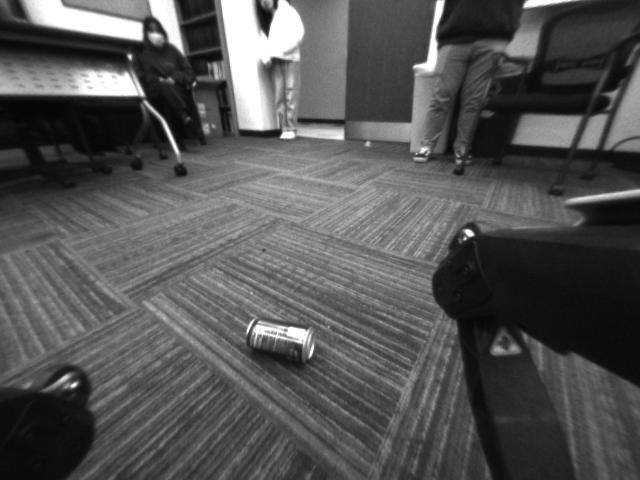can: (240, 311, 332, 376)
